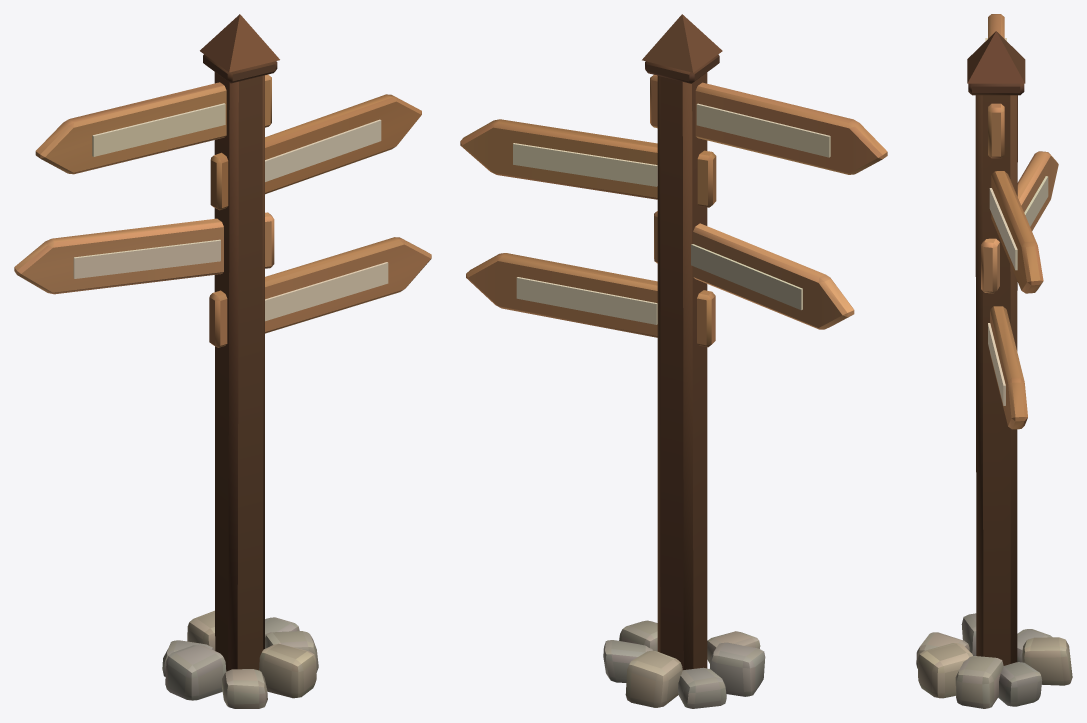
Rendered from signpost.glb.
The picture shows the model from 3 angles, left to right: view 1: azimuth 30°, elevation 25°; view 2: azimuth 150°, elevation 25°; view 3: azimuth 270°, elevation 25°; orthographic projection. The views are drawn at different scales.
Parts seen in each view (by area): view 1: signpost; view 2: signpost; view 3: signpost.
Part boxes in pixels (box(x1,y1,x2,y2)): signpost: box(14, 14, 431, 708); signpost: box(460, 14, 887, 708); signpost: box(916, 14, 1072, 708).
Bounding box in the file's own units: 1.22 × 1.92 × 0.4193.
